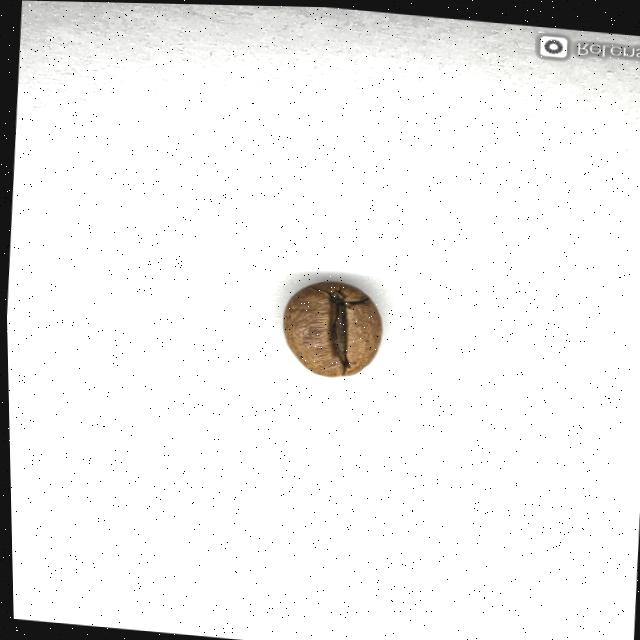Good bean: (277, 275, 383, 381)
